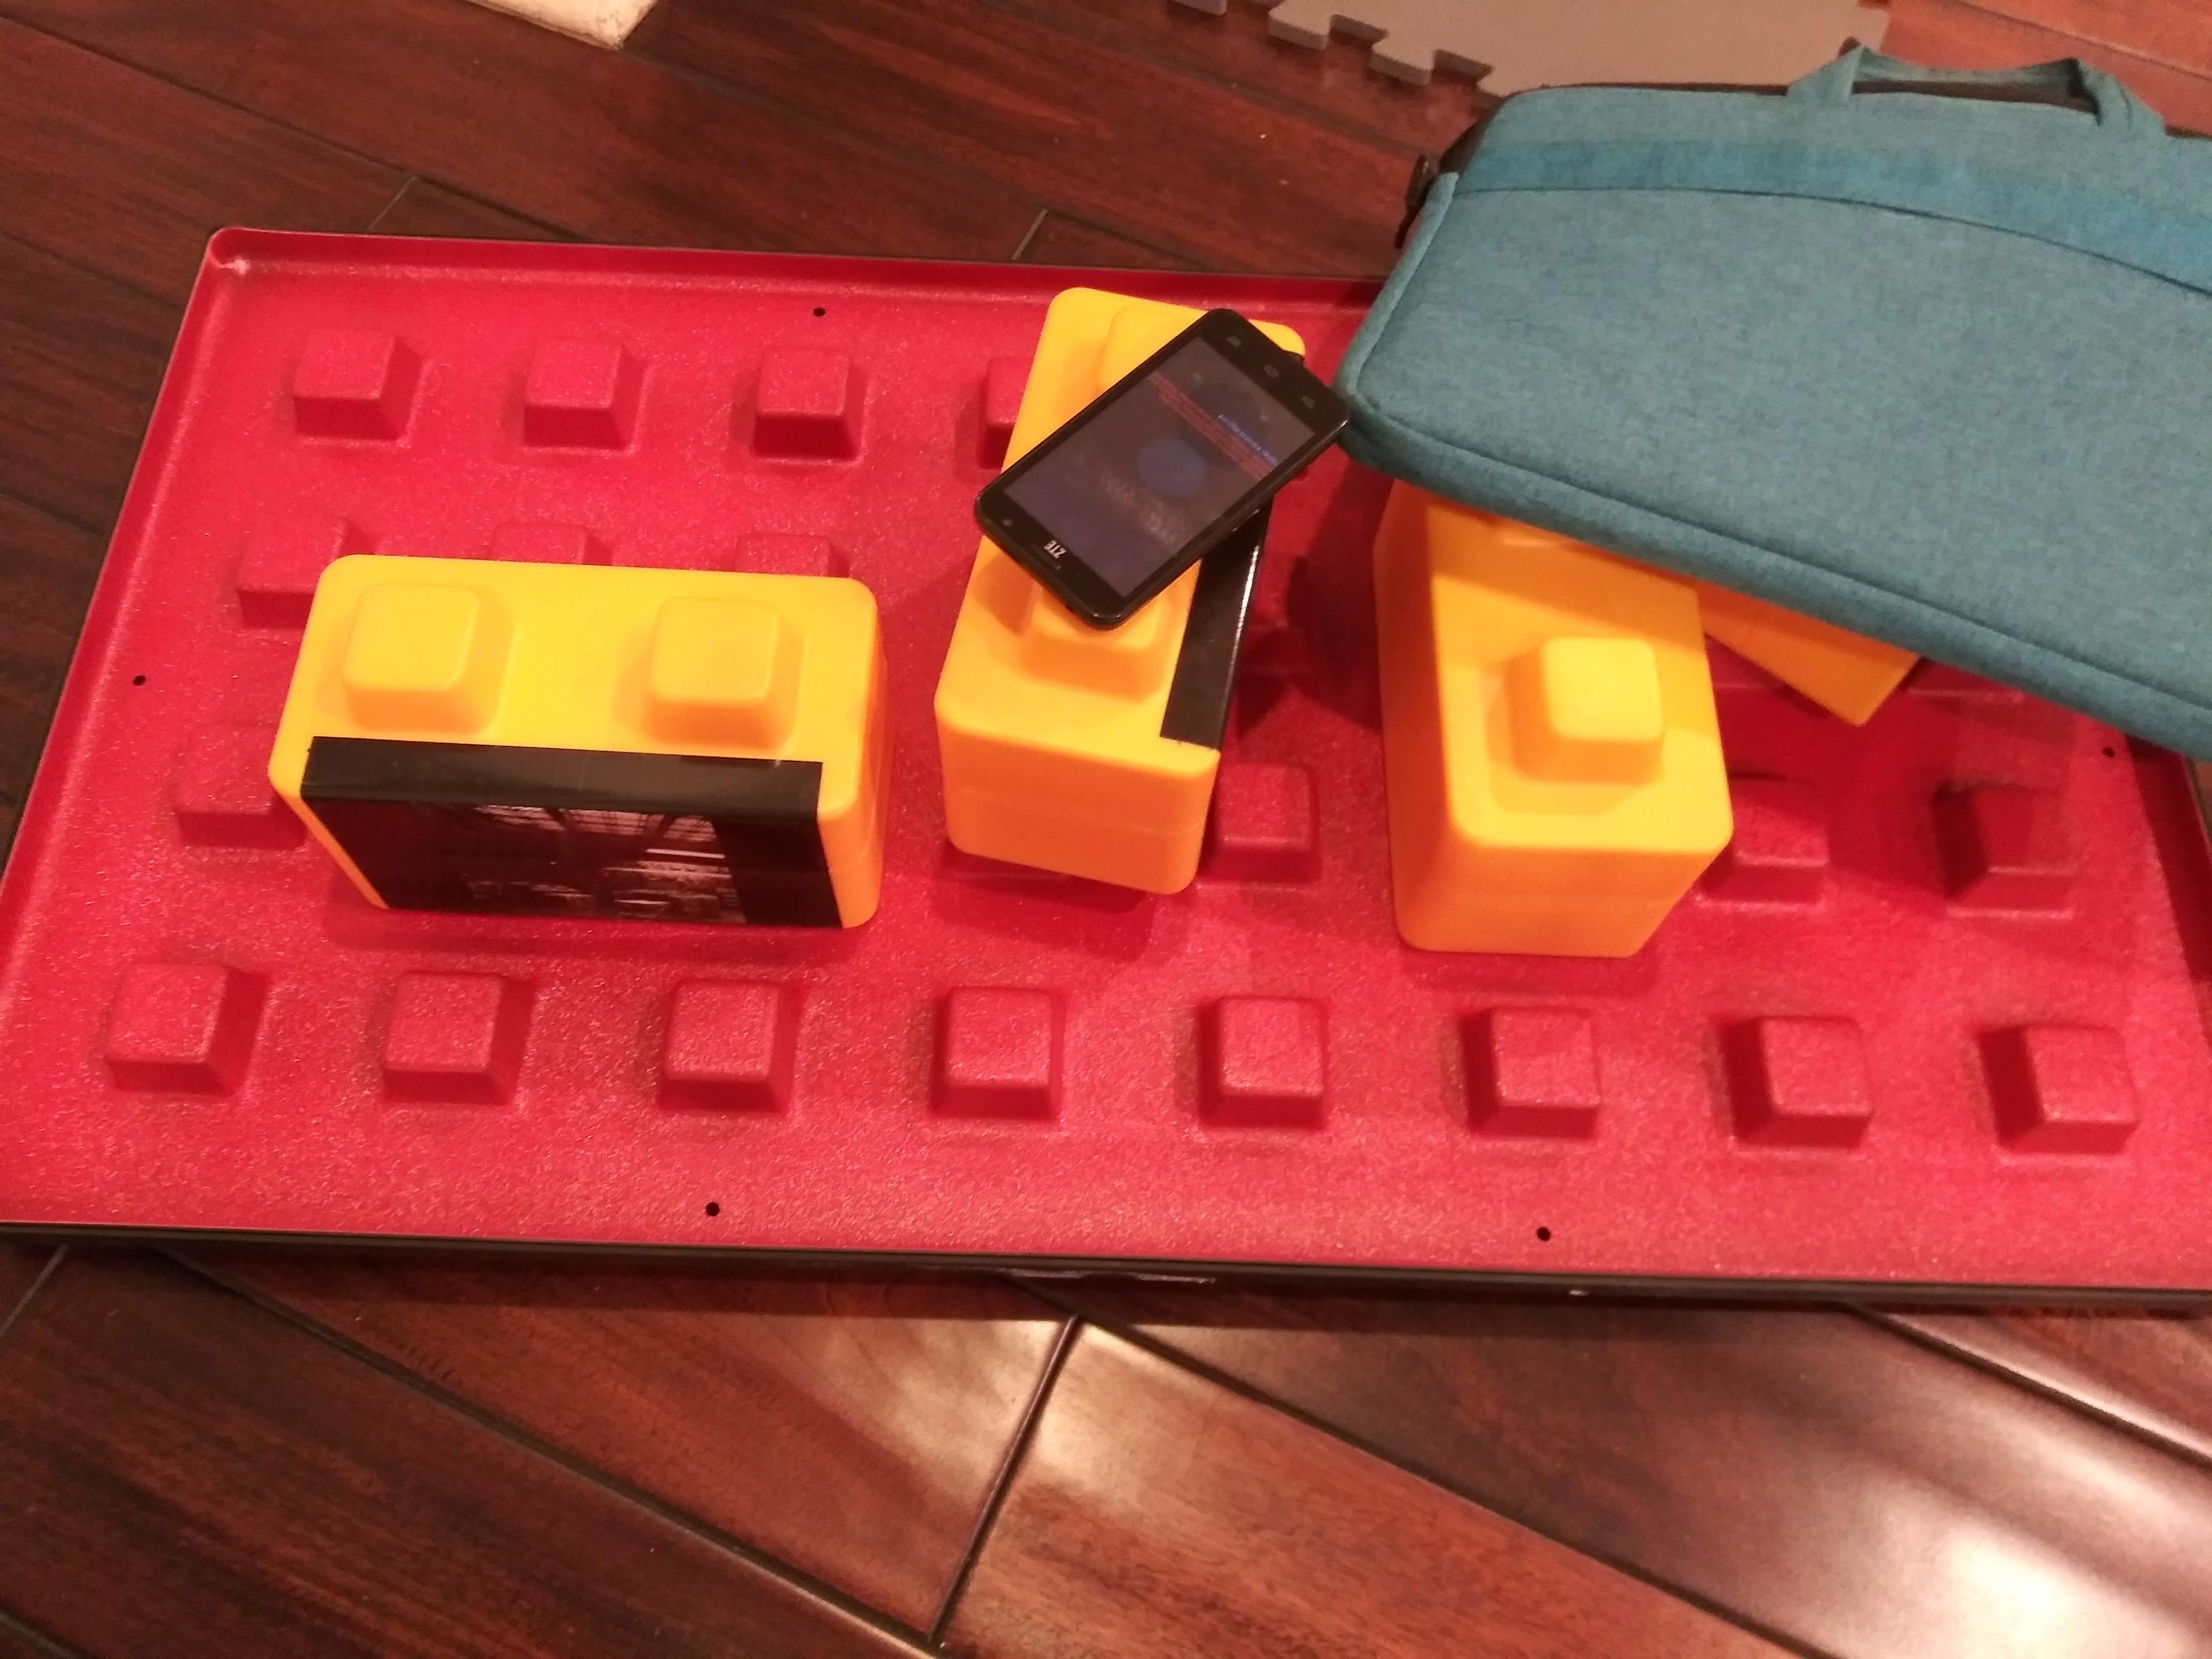skystone: (307, 622, 848, 974), (961, 626, 1259, 889)
stone: (1416, 551, 1730, 962)
